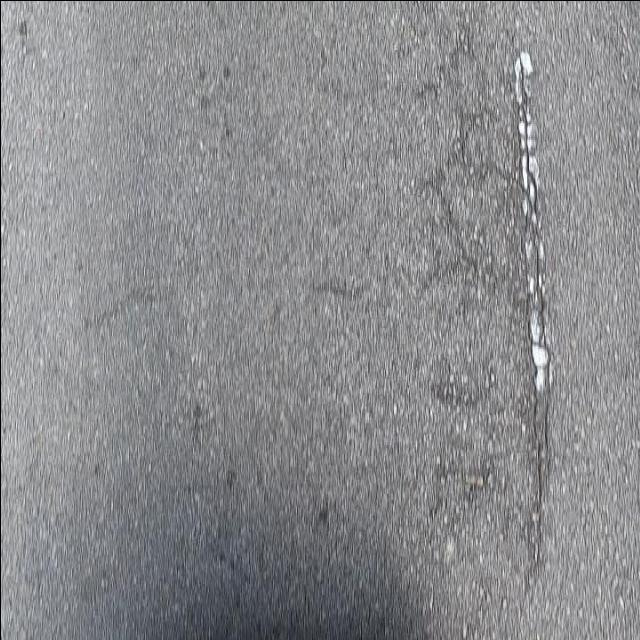cracks: (463, 28, 585, 598)
